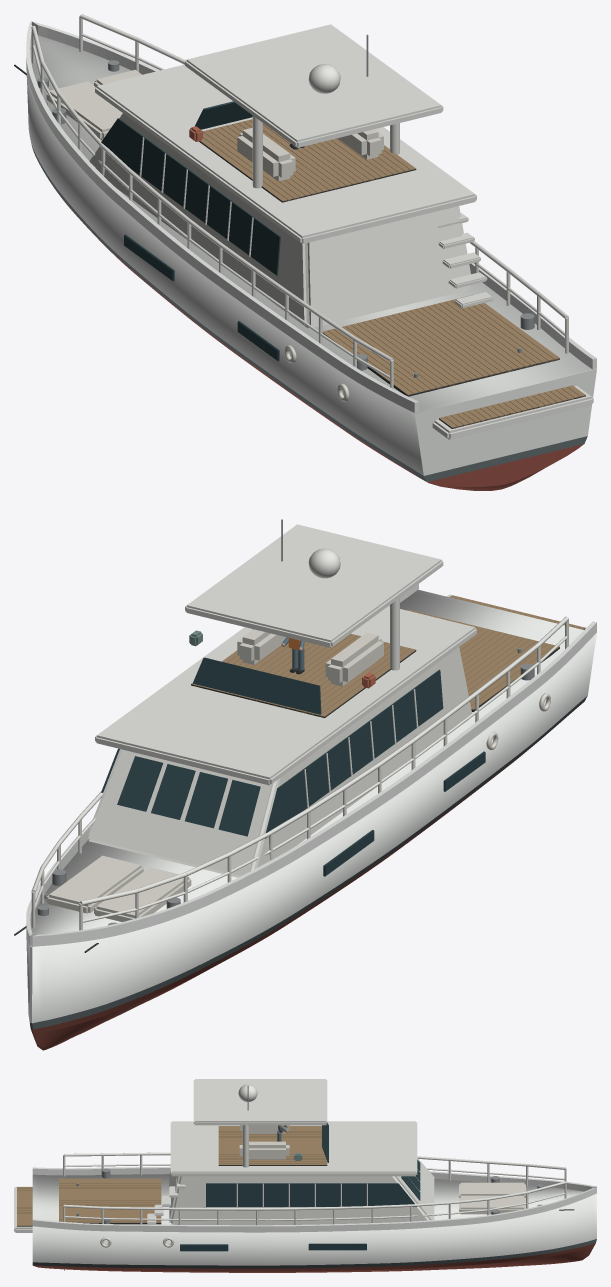
The model's file is yacht.glb.
The picture shows the model from 3 angles, top to bottom: view 1: azimuth 30°, elevation 25°; view 2: azimuth 150°, elevation 25°; view 3: azimuth 270°, elevation 25°; orthographic projection. The views are drawn at different scales.
Parts seen in each view (by area): view 1: white, hull, teak, window, canvas, bottom, stripe, black, metal; view 2: white, hull, window, teak, canvas, bottom, stripe, metal; view 3: hull, white, teak, window, bottom, canvas, stripe, metal.
Part boxes in pixels (x1,y1,x2,y2): white: (31, 14, 593, 439); hull: (26, 21, 596, 475); teak: (200, 119, 585, 427); window: (101, 101, 280, 361); canvas: (46, 69, 383, 401); bottom: (53, 186, 583, 490); stripe: (31, 144, 587, 482); black: (14, 64, 585, 428); metal: (37, 34, 534, 377); white: (31, 524, 568, 930); hull: (26, 584, 596, 1023); window: (101, 657, 485, 876); teak: (191, 595, 585, 716); canvas: (46, 629, 550, 921); bottom: (31, 751, 526, 1050); stripe: (30, 696, 587, 1029); metal: (37, 519, 534, 925); hull: (32, 1166, 596, 1265); white: (14, 1079, 566, 1232); teak: (17, 1126, 327, 1225); window: (180, 1122, 420, 1251); bottom: (33, 1243, 595, 1272); canvas: (100, 1125, 525, 1247); stripe: (32, 1239, 596, 1268); metal: (76, 1085, 543, 1223).
Bounding box in the file's own units: 6.83 × 10.24 × 27.9.
